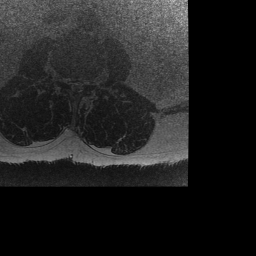CCS_normal: (74, 73, 80, 98)
LFS_normal: (86, 70, 93, 90)
LLS_normal: (80, 73, 86, 95)
RFS_normal: (61, 67, 67, 88)
RLS_stenosis: (67, 71, 74, 93)
